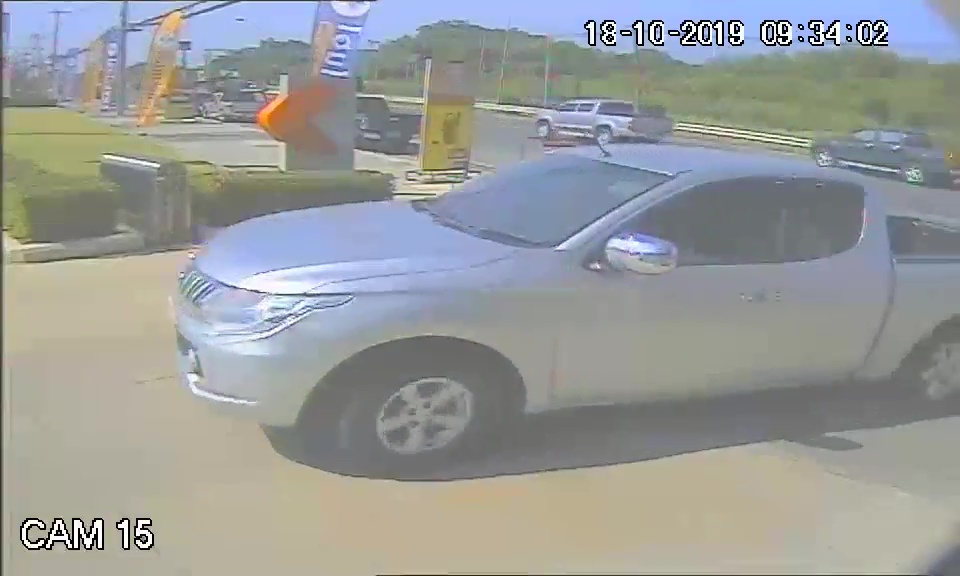pickup: (169, 145, 886, 488)
